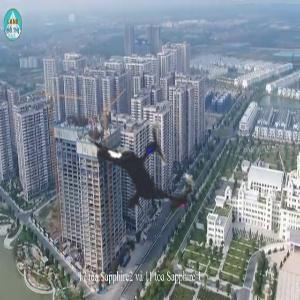drone: (55, 79, 237, 261)
